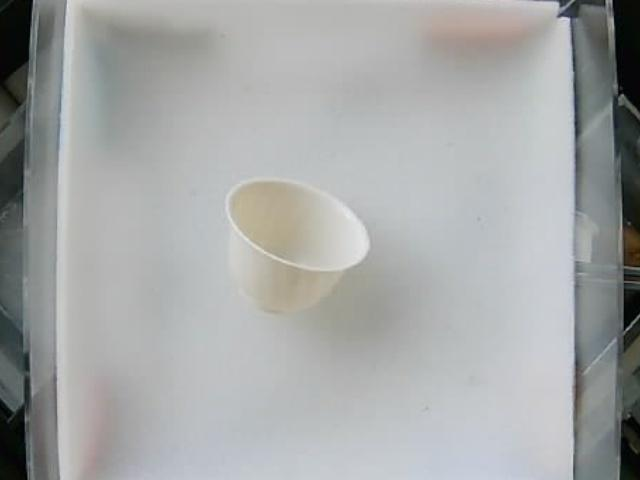Cup: (223, 175, 370, 312)
